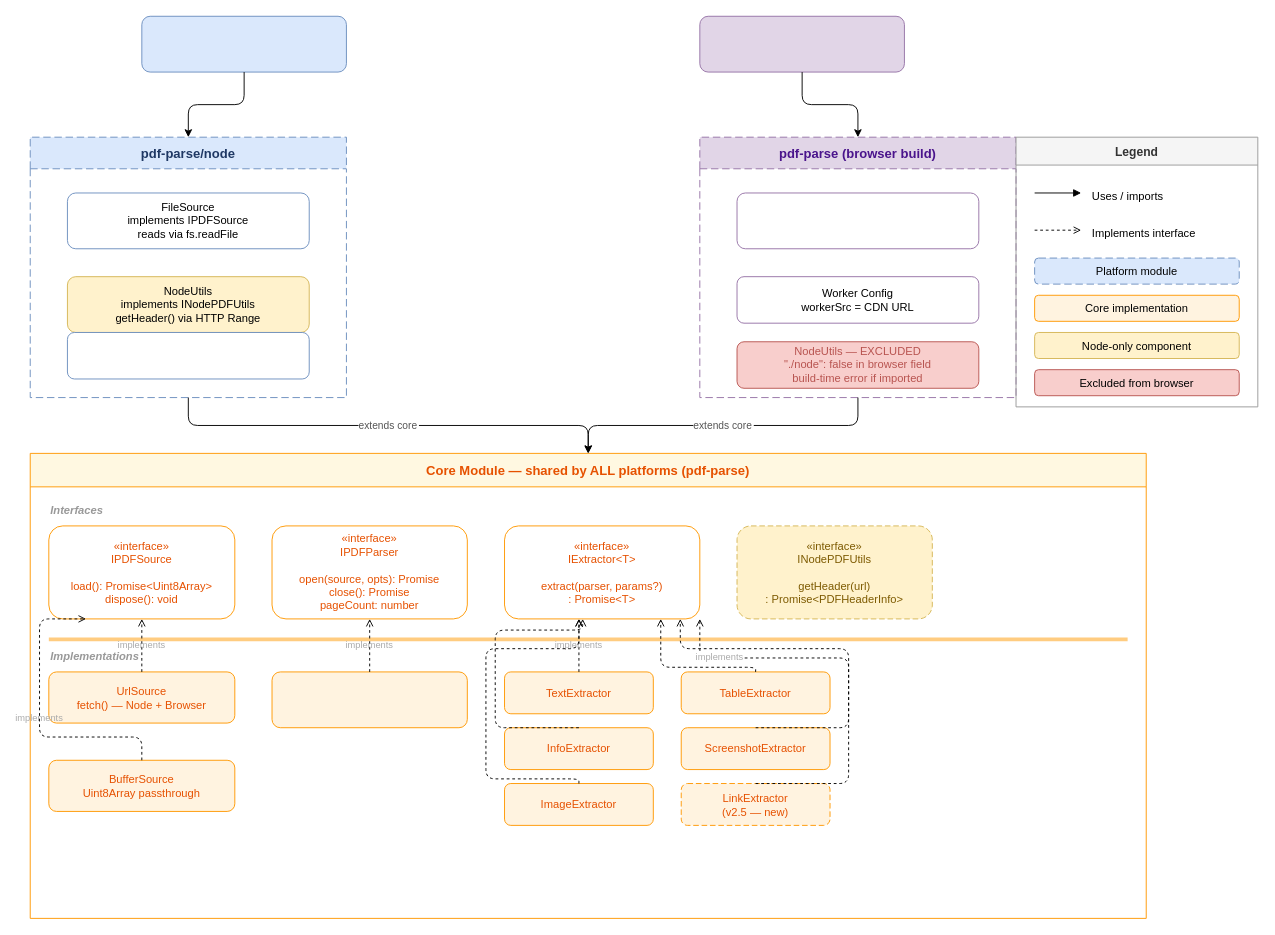
The diagram is 1275 pixels wide and 935 high, and some of its shapes have lost their labels. Here are the shapes that lost their labels. From the top down, the centre of each, then its label:
At point (243, 43): "Node.js Consumer (Server / CLI / Lambda)".
At point (801, 43): "Browser Consumer (React / Vue / Vanilla)".
At point (857, 220): "Base64Source implements IPDFSource decodes on load()".
At point (187, 355): "Worker Config workerSrc = require.resolve(...)".
At point (369, 699): "PDFSession implements IPDFParser manages PDF.js worker".
